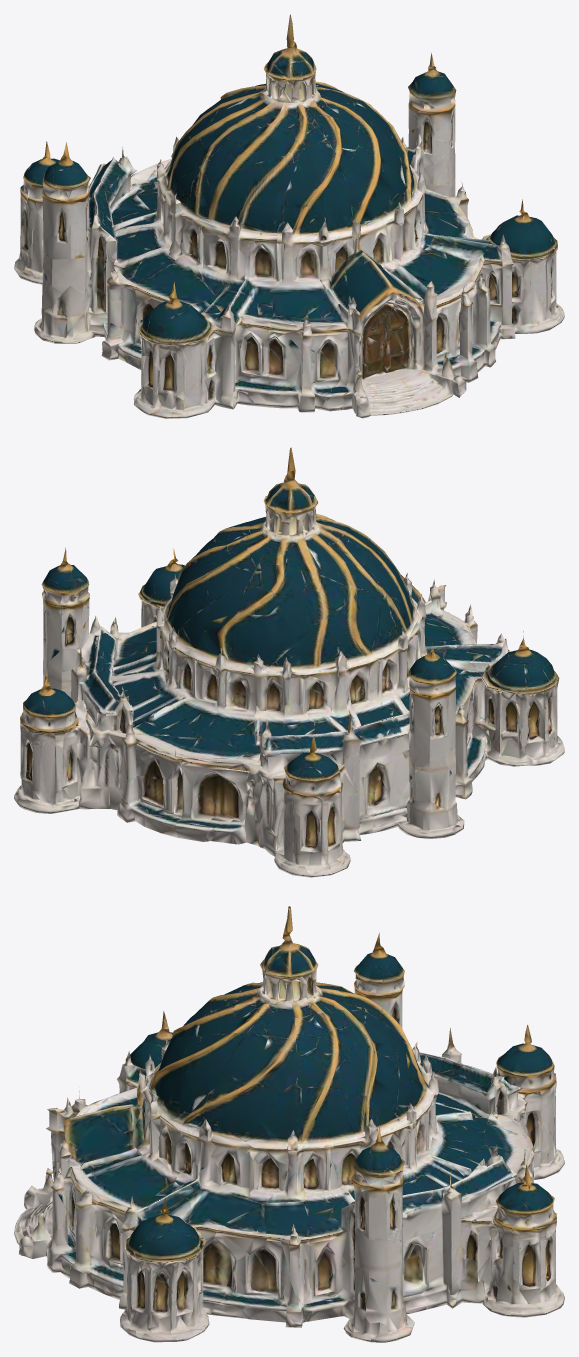
The model's file is biblioplex-lo.glb.
3 views of the same model, one above another, from view 1: azimuth 30°, elevation 25°; view 2: azimuth 150°, elevation 25°; view 3: azimuth 270°, elevation 25° (orthographic). The views are drawn at different scales.
Size of the model in its own units: 1.81 by 1.24 by 1.9.
1 material, 1 textured.
